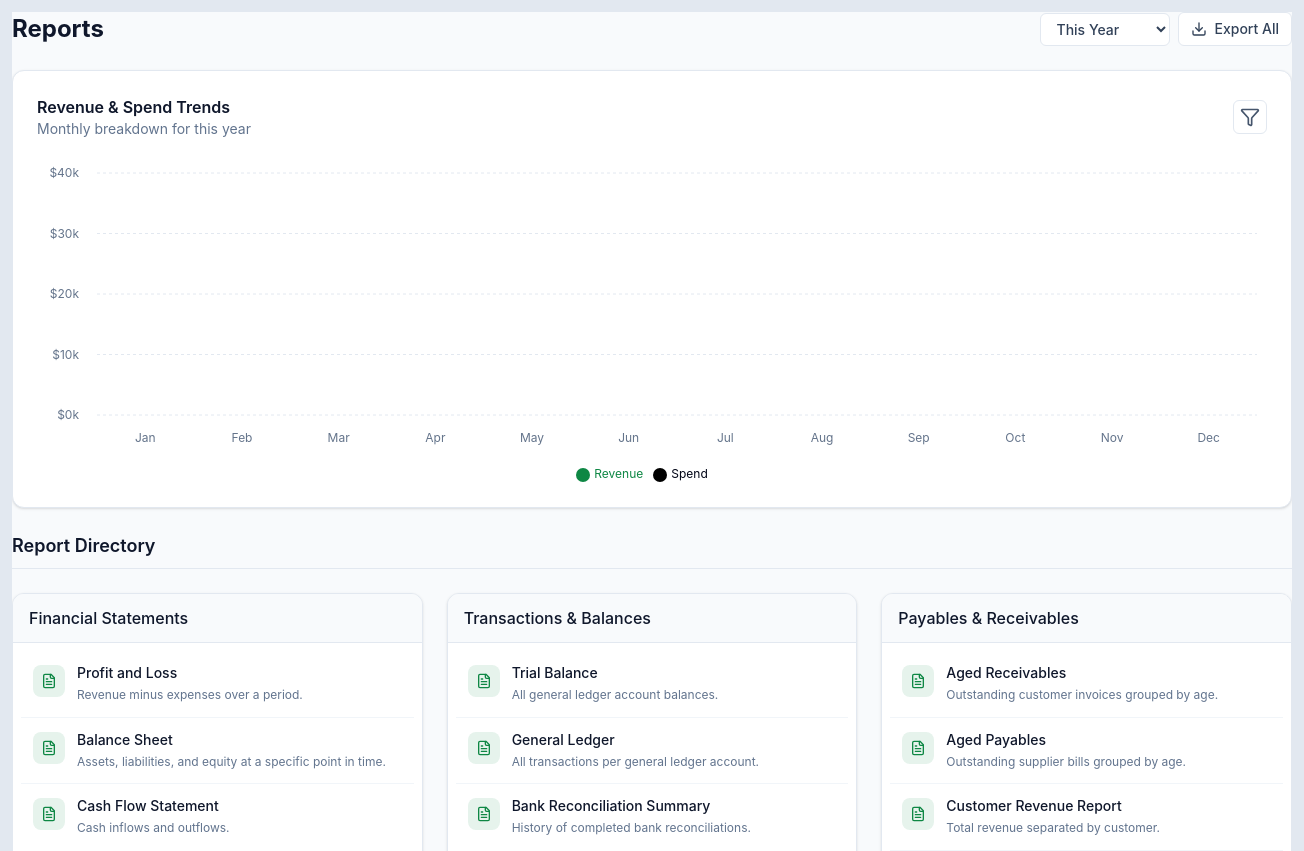
Test: ReportsPage Component › navigates to Balance Sheet sub-view and back to Reports directory
The image size is (1304, 851).
# Click on Balance Sheet in Directory
Click the button "Balance Sheet Assets, liabilities, and equity": (49, 748) x1=21 y1=718 x2=414 y2=783
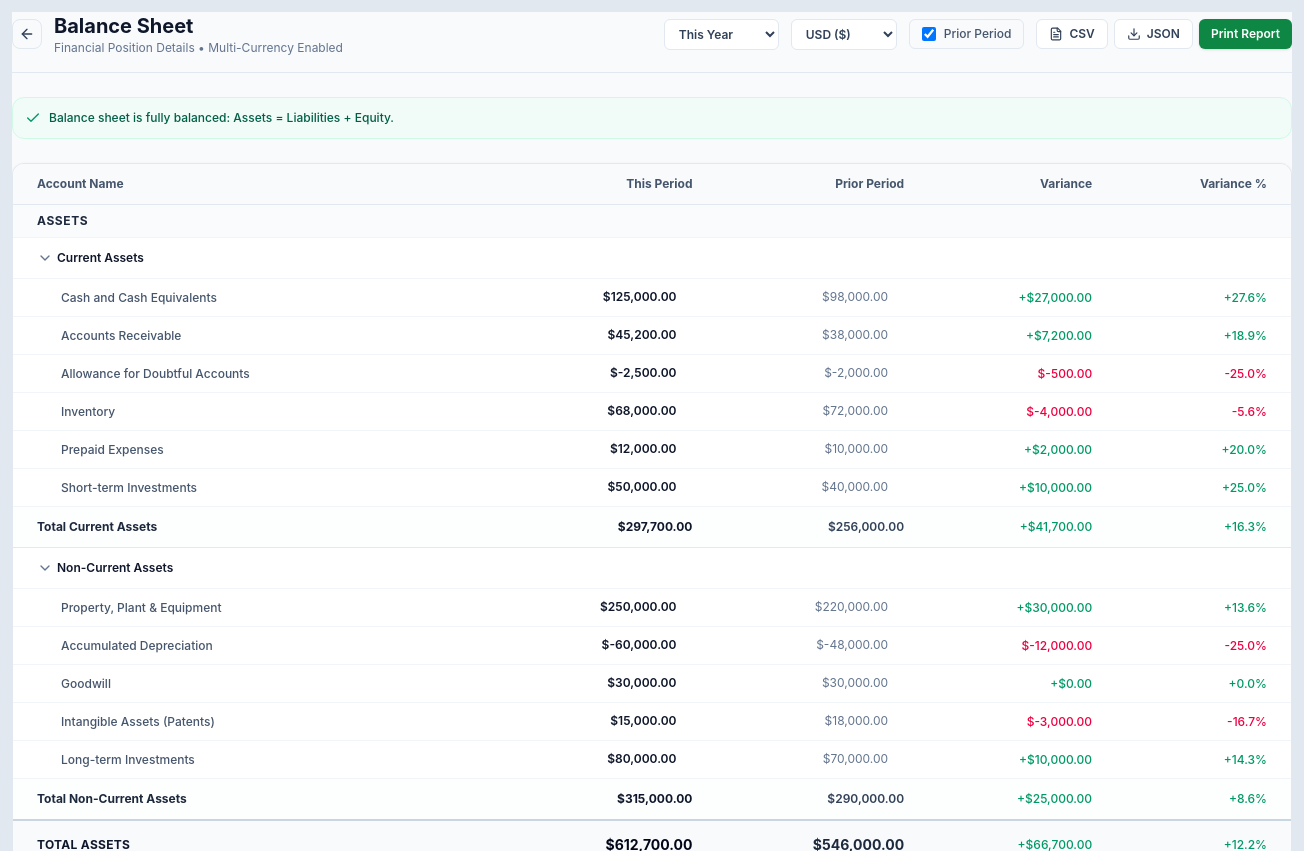
Now the heading "Balance Sheet" is shown, box x1=54 y1=14 x2=194 y2=38
# Click back button
Click the button named "Back to Reports": (27, 34) x1=12 y1=19 x2=42 y2=49
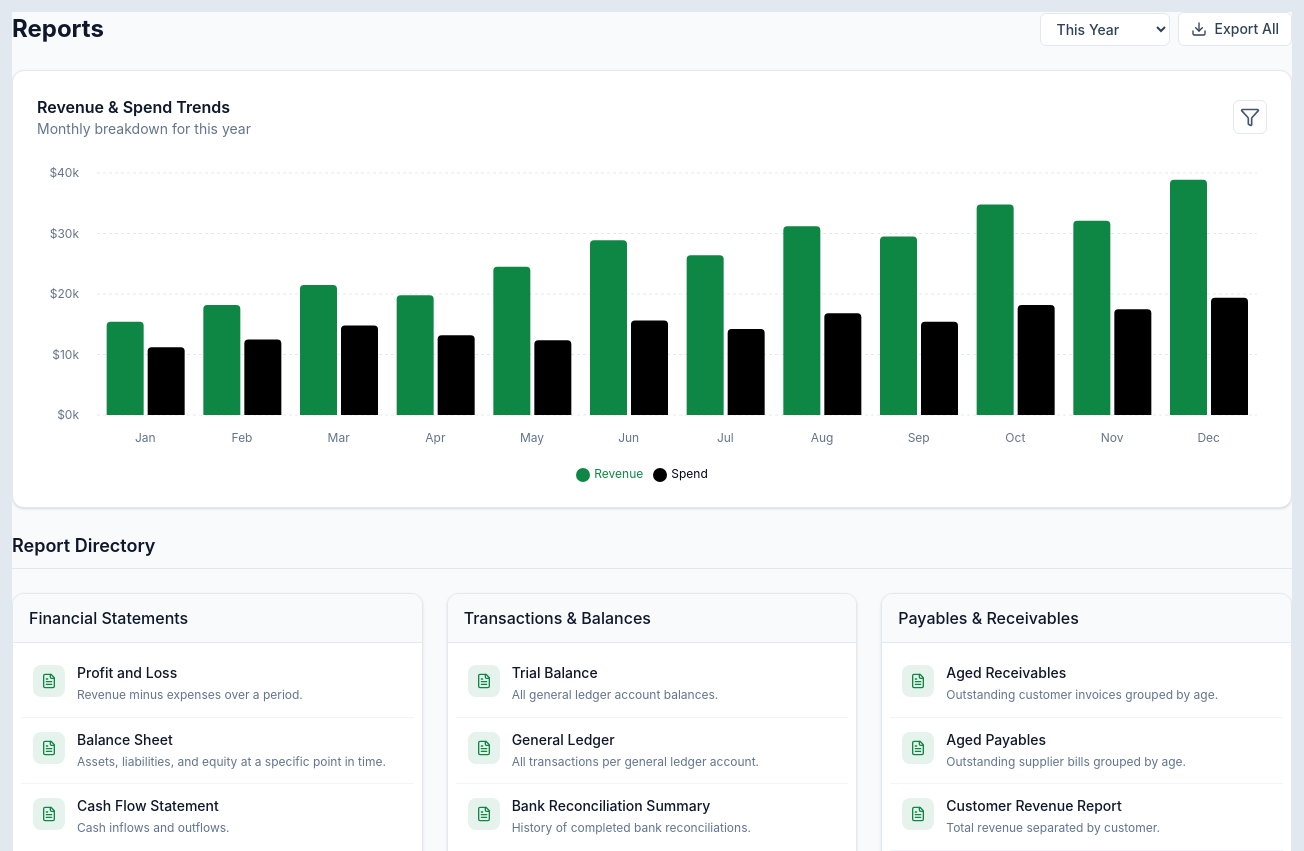
Now the heading "Reports" is shown, box x1=12 y1=13 x2=104 y2=45
